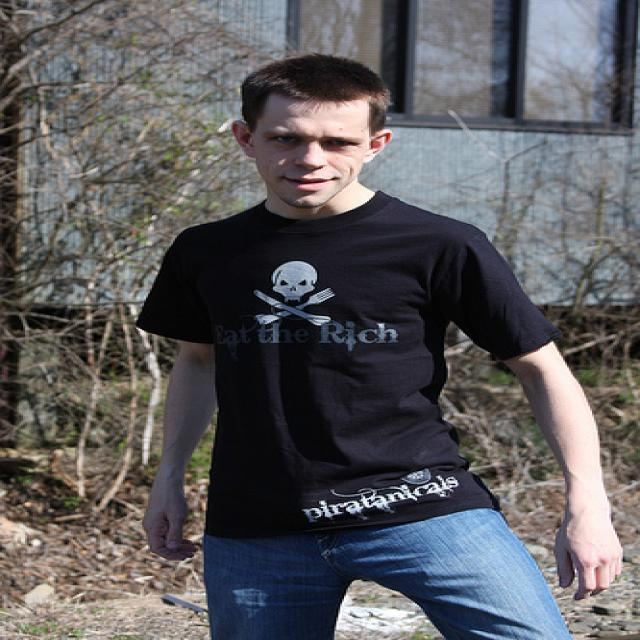T-shirt: (134, 200, 571, 536)
